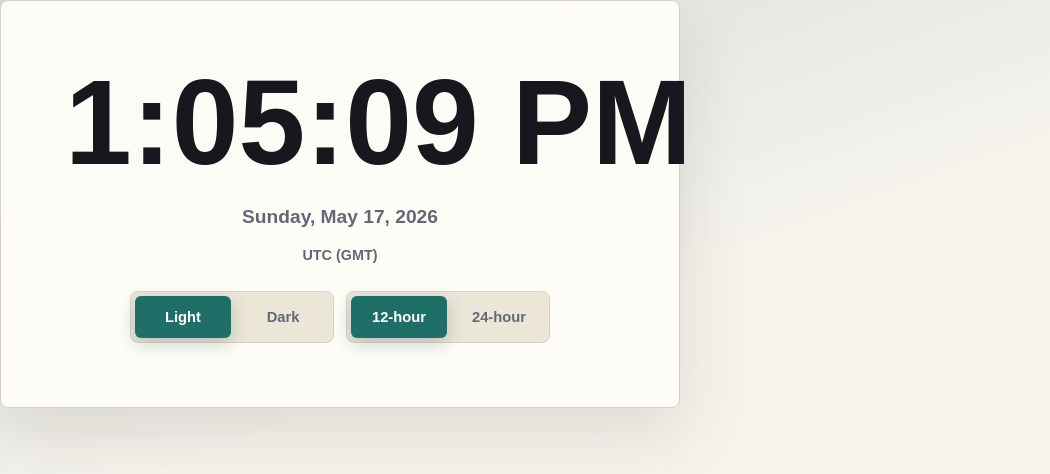
Scenario: ClockDisplay › toggles between 12-hour and 24-hour time formats
Click the button "24-hour" at coordinates (499, 317), box top-left (451, 296), bottom-right (547, 338)
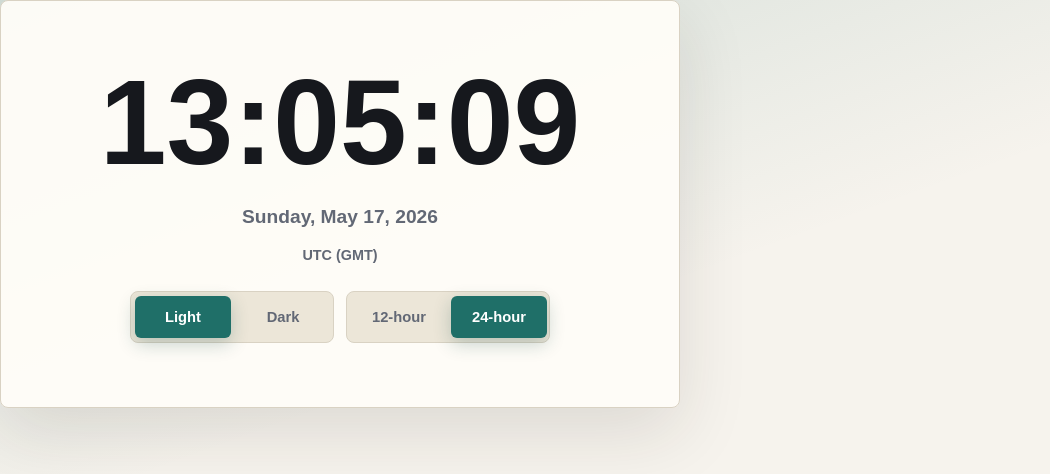
expect the text "13:05:09" is shown: met, box top-left (65, 65), bottom-right (615, 179)
expect the button "12-hour" is not pressed: met
expect the button "24-hour" is pressed: met, box top-left (451, 296), bottom-right (547, 338)
Click the button "12-hour" at coordinates (399, 317), box top-left (351, 296), bottom-right (447, 338)
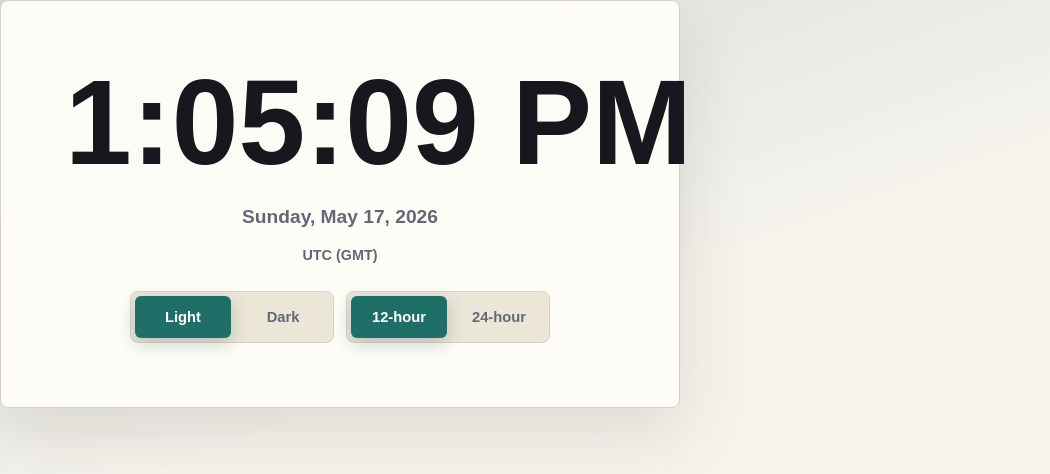
expect the text "1:05:09 PM" is shown: met, box top-left (65, 65), bottom-right (615, 179)
